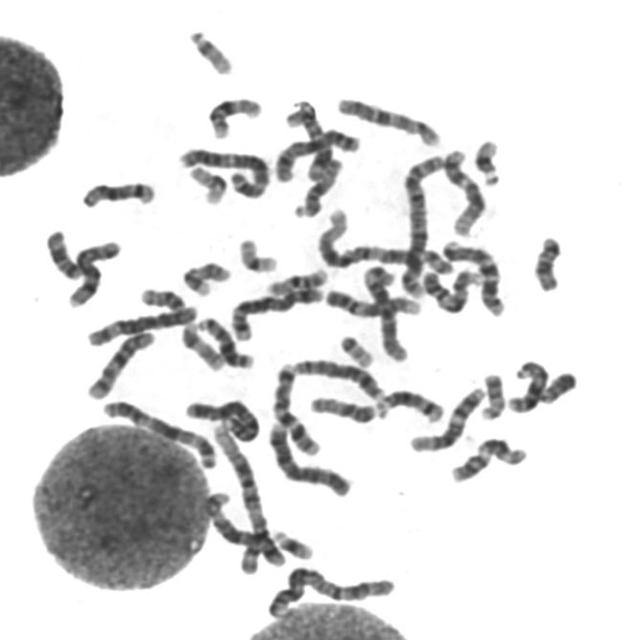A1: (207, 418, 274, 574), (314, 205, 456, 277)
A2: (395, 148, 447, 301), (261, 561, 398, 619)
A3: (96, 395, 220, 471), (174, 142, 272, 200)
B4: (263, 416, 354, 499), (179, 394, 262, 444)
B5: (198, 487, 288, 568), (226, 282, 326, 342)
C10: (332, 92, 443, 148), (82, 326, 158, 401)
C11: (278, 106, 335, 191), (445, 433, 531, 485)
C12: (405, 382, 487, 453), (438, 144, 488, 237)
C6: (82, 300, 200, 348), (358, 261, 412, 363)
C7: (438, 235, 507, 319), (267, 358, 323, 458)
C8: (288, 354, 388, 402), (62, 235, 124, 309)
C9: (320, 282, 425, 320), (418, 263, 483, 314)
D13: (192, 312, 257, 371), (503, 355, 552, 415)
D14: (370, 384, 448, 424), (76, 175, 159, 211)
D15: (289, 153, 345, 220), (305, 391, 379, 425)
E16: (203, 91, 265, 140), (262, 262, 330, 296)
E17: (175, 320, 228, 372), (178, 256, 233, 298)
E18: (41, 224, 84, 280), (529, 230, 565, 294)
F19: (183, 160, 230, 207), (234, 233, 280, 274)
F20: (476, 368, 508, 422), (135, 283, 187, 313)
G21: (469, 133, 504, 188), (268, 524, 316, 562)
G22: (183, 24, 236, 77), (335, 330, 376, 369)
X: (270, 124, 362, 184)
Y: (534, 367, 578, 405)
